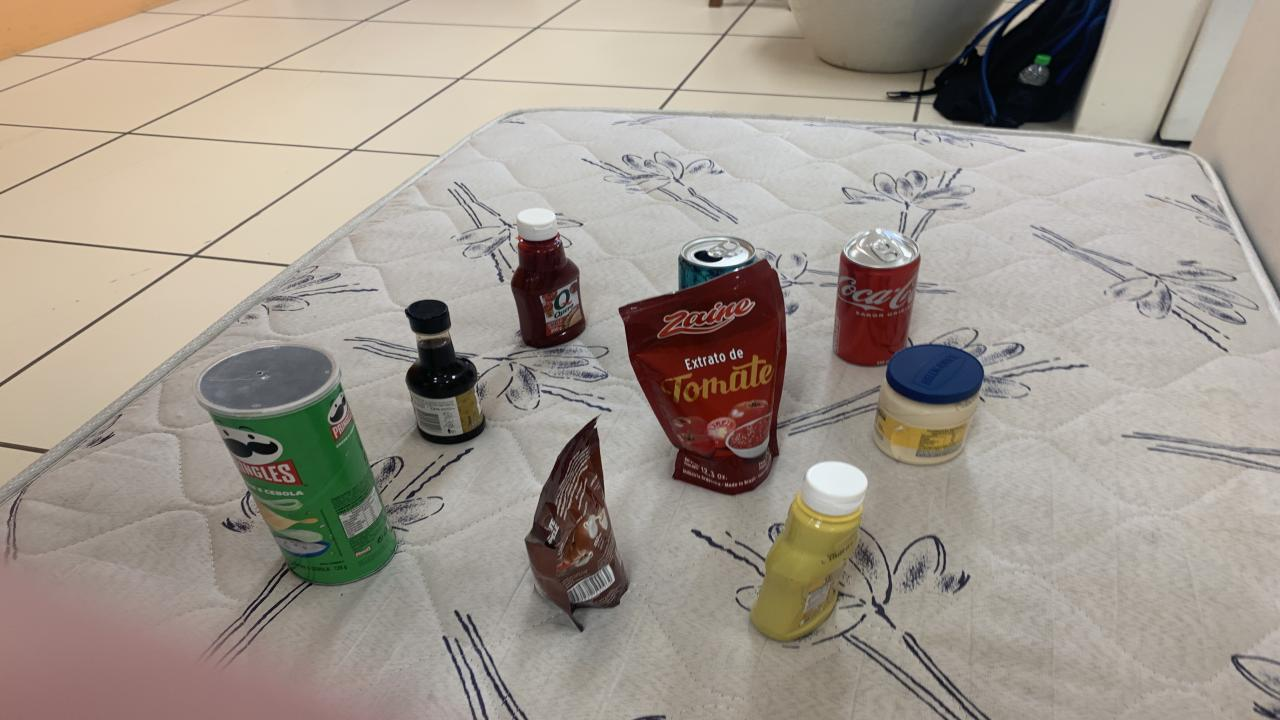Coffee-Pantry_Items: (525, 420, 628, 617)
Coke-Drinks: (835, 229, 920, 366)
English_Sauce-Pantry_Items: (405, 300, 485, 444)
Ketchup-Pantry_Items: (510, 208, 585, 349)
Mayonnaise-Pantry_Items: (872, 345, 985, 465), (835, 229, 920, 366)
Mustard-Pantry_Items: (750, 461, 868, 641)
Pringles-Snacks: (195, 341, 398, 585)
Tea-Drinks: (678, 236, 758, 289)
Tomato_Sauce-Pantry_Items: (620, 261, 788, 495)
